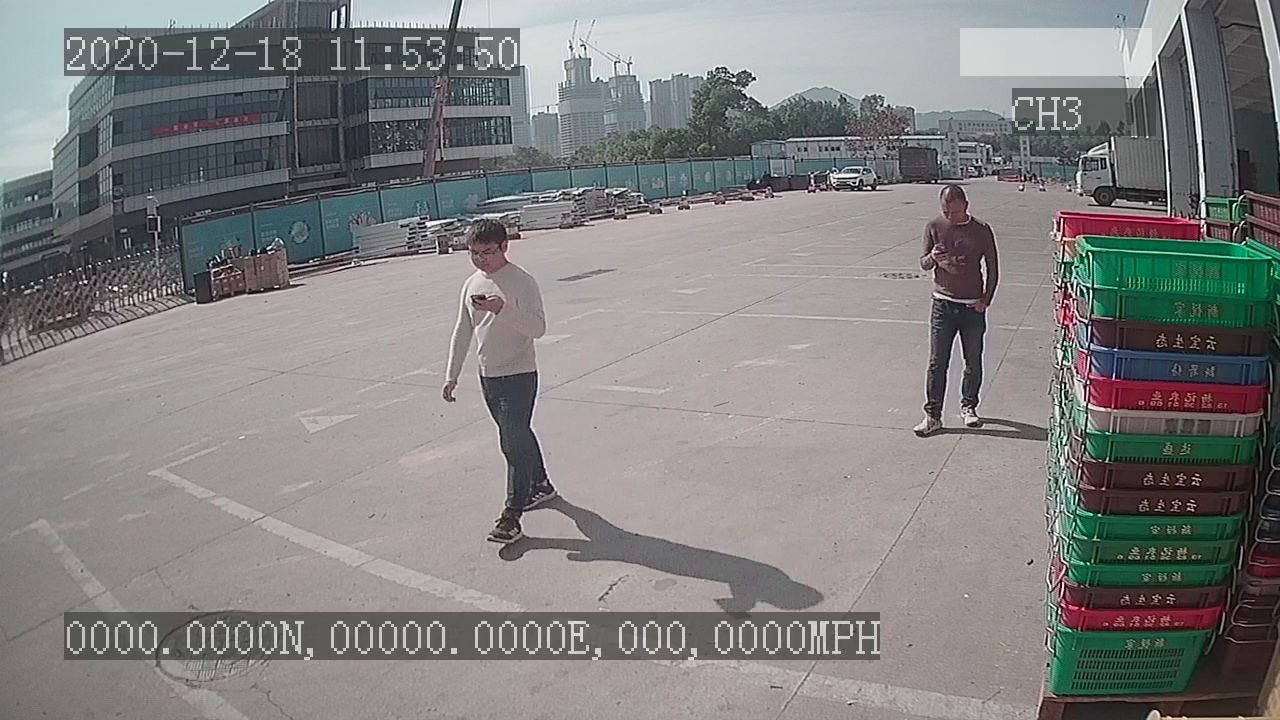person: (436, 211, 574, 563), (904, 181, 1008, 440)
